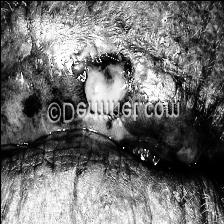Potentially Malignant Skin Tumors: (78, 51, 136, 122)
